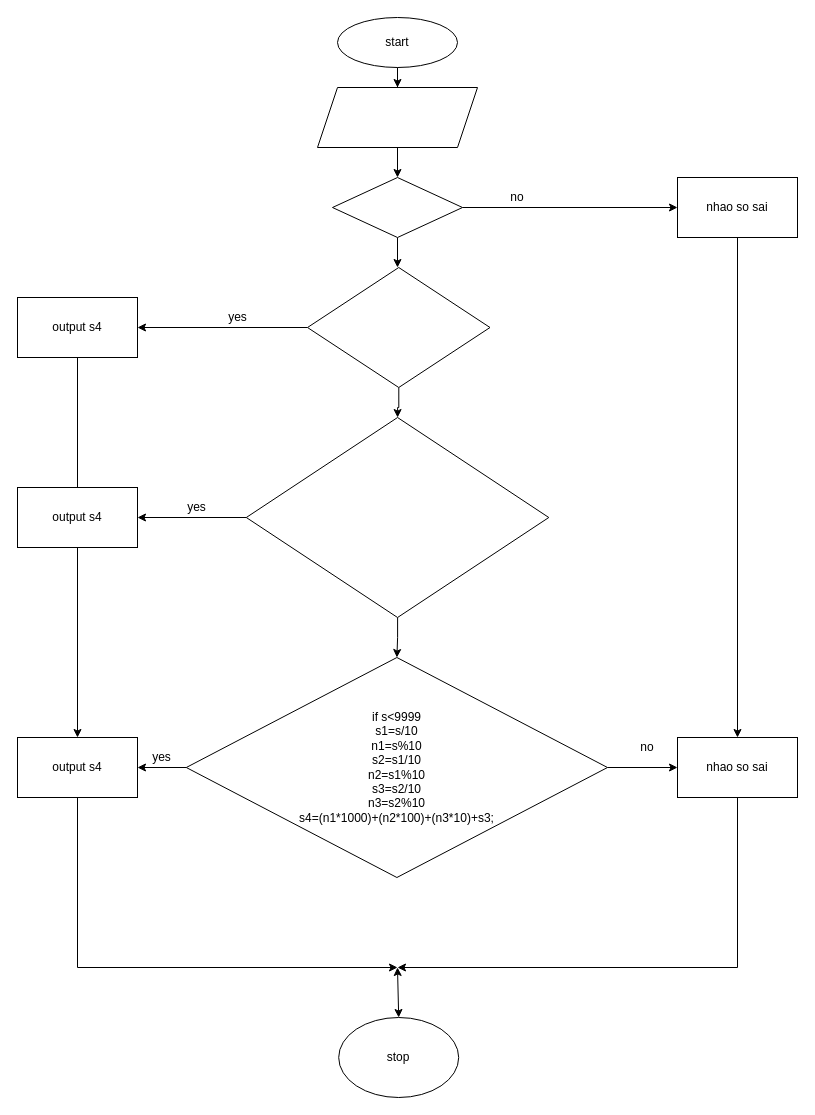
Image size: 815x1115. Some labels were removed from this diagram. Each missing label, with the box of its shape:
if s<99 s1=s/10; n1=s%10; s4=(n1*10)+s1: (306, 266, 490, 388)
if s<999 s1=s/10 n1=s%10 s2=s1/10 n2=s1%10 s4=(n1*100)+(n2*10)+s2: (245, 416, 549, 618)
input s,s1,s2,s3,s4,n1,n2,n3: (316, 86, 478, 148)
s<10: (332, 176, 462, 238)
